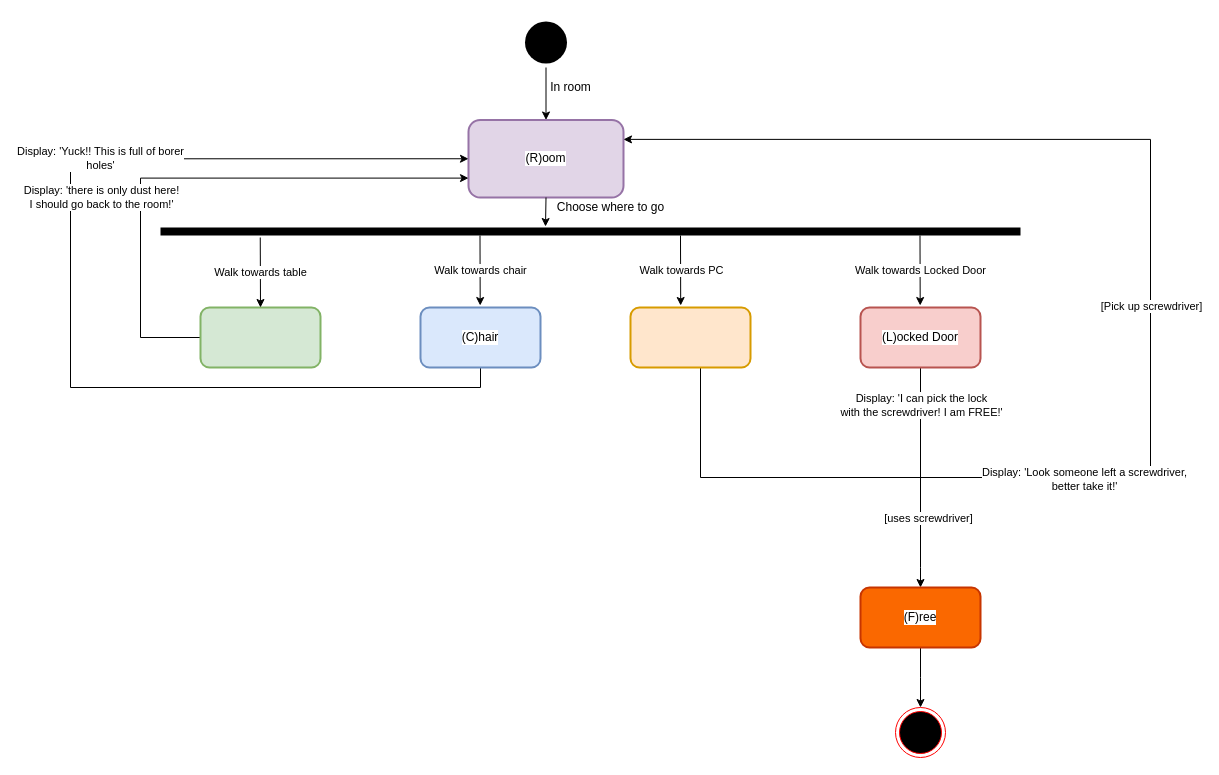
Image size: 1219x775. Some labels were removed from this diagram. The box of each missing label's shape, as (x1, y1, x2, y2) in pixels:
(P)C: (629, 306, 751, 368)
(T)able: (199, 306, 321, 368)
